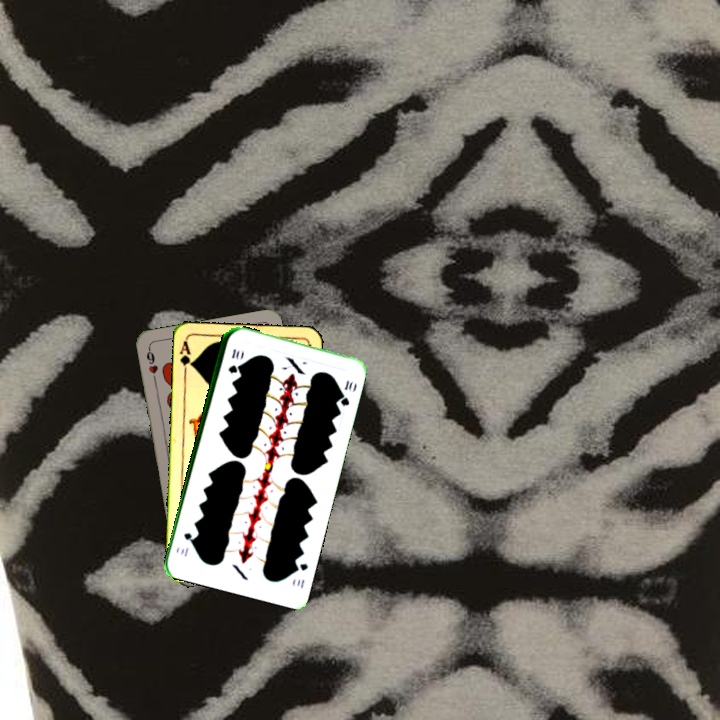G10: (290, 558, 310, 591), (224, 345, 242, 376)
GA: (176, 337, 196, 378)
H9: (142, 344, 160, 385)
